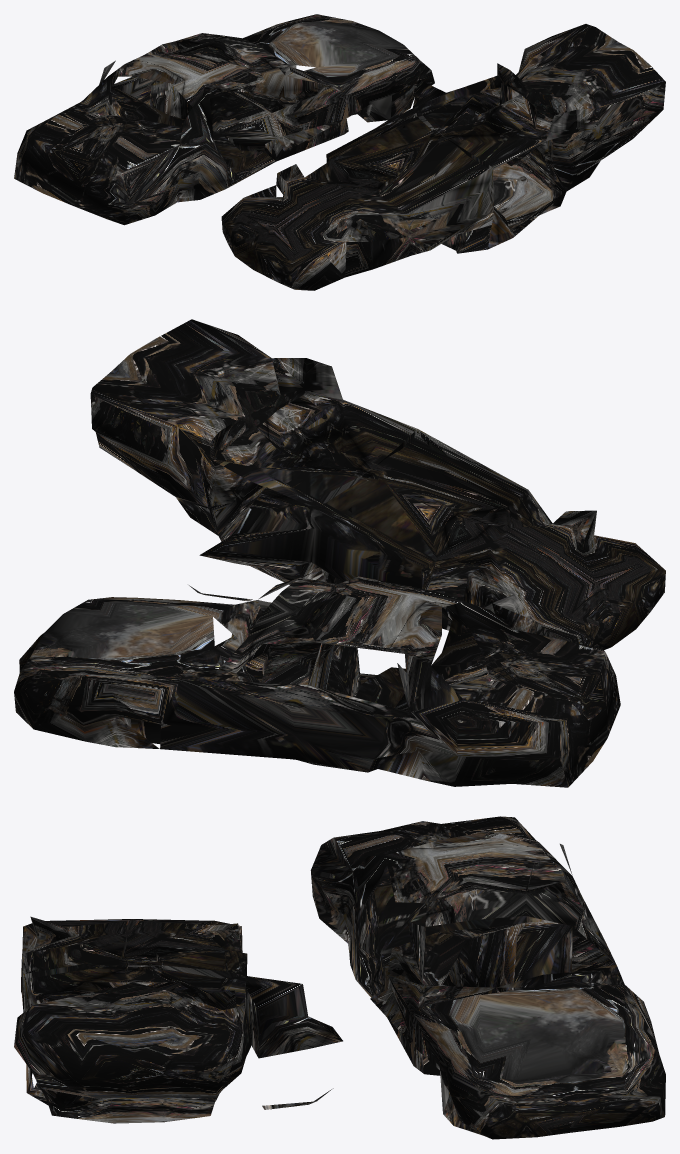
File: burned_police_cars.glb
3 views of the same model, one above another, from view 1: azimuth 30°, elevation 25°; view 2: azimuth 150°, elevation 25°; view 3: azimuth 270°, elevation 25° (orthographic). The views are drawn at different scales.
Parts seen in each view (by area): view 1: burned_police_cars; view 2: burned_police_cars; view 3: burned_police_cars.
Part boxes in pixels (bbox=[...]): burned_police_cars: bbox=[14, 14, 665, 290]; burned_police_cars: bbox=[14, 319, 665, 787]; burned_police_cars: bbox=[14, 816, 665, 1139].
Size of the model in its own units: 0.6824 by 0.1866 by 0.5829.
Materials: 1 (1 with a texture image).
